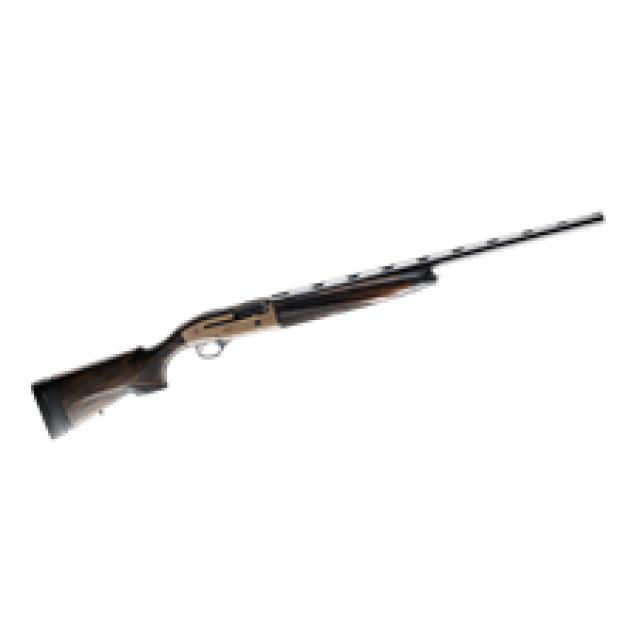rifle: (29, 210, 612, 447)
